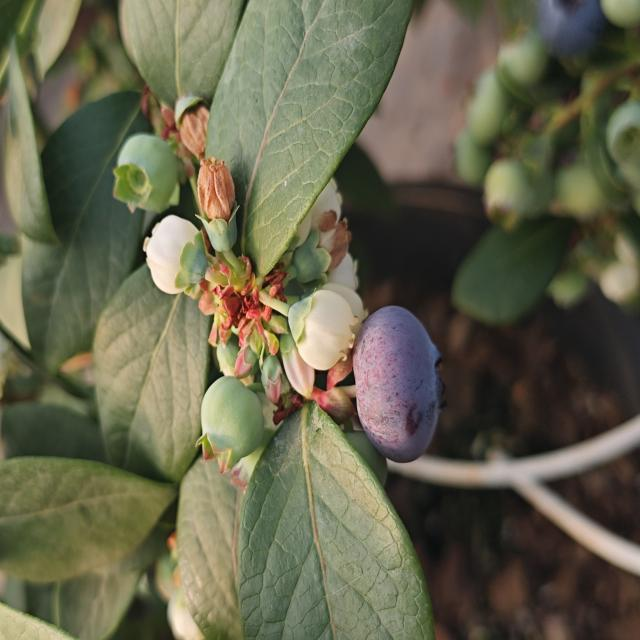ripe: (350, 297, 446, 469), (523, 0, 611, 69)
